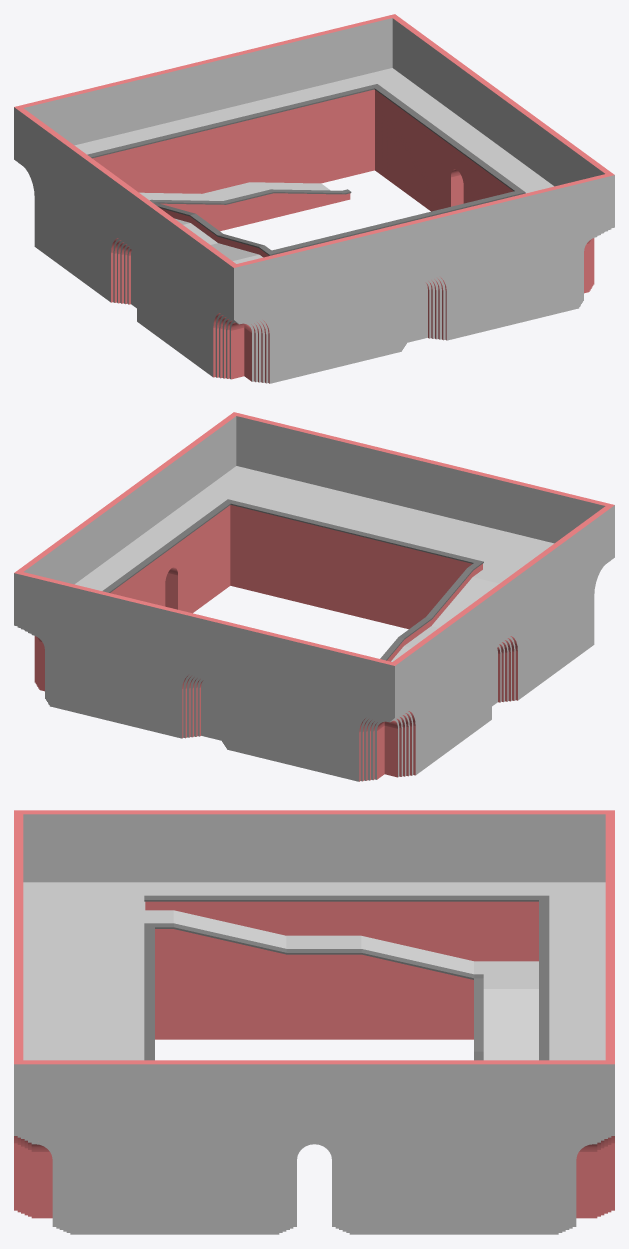
Rendered from gallery.glb.
The picture shows the model from 3 angles, top to bottom: view 1: azimuth 30°, elevation 25°; view 2: azimuth 150°, elevation 25°; view 3: azimuth 270°, elevation 25°; orthographic projection. The views are drawn at different scales.
Visible parts, largest first — view 1: gallery; view 2: gallery; view 3: gallery.
Boxes of the visible parts, <box> form: gallery: <box>14,14,614,383</box>; gallery: <box>14,412,614,781</box>; gallery: <box>14,810,614,1234</box>.
Size of what is drawn, in the model's own units: 48 by 15 by 48.
